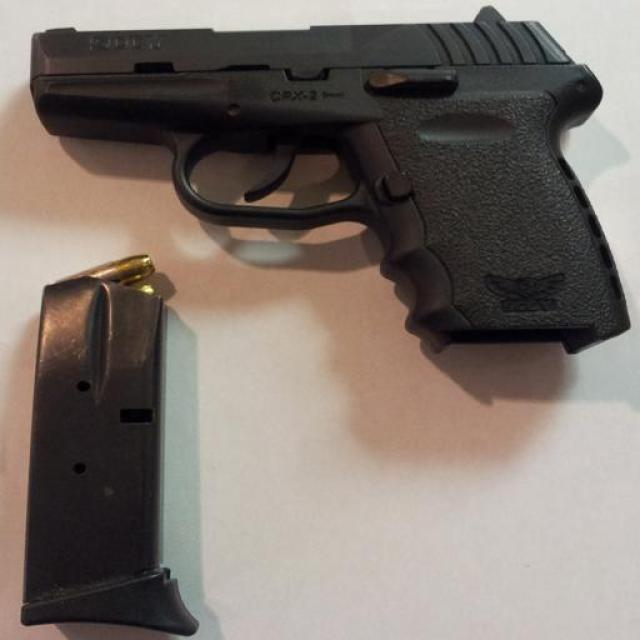pistol: (30, 5, 630, 365)
